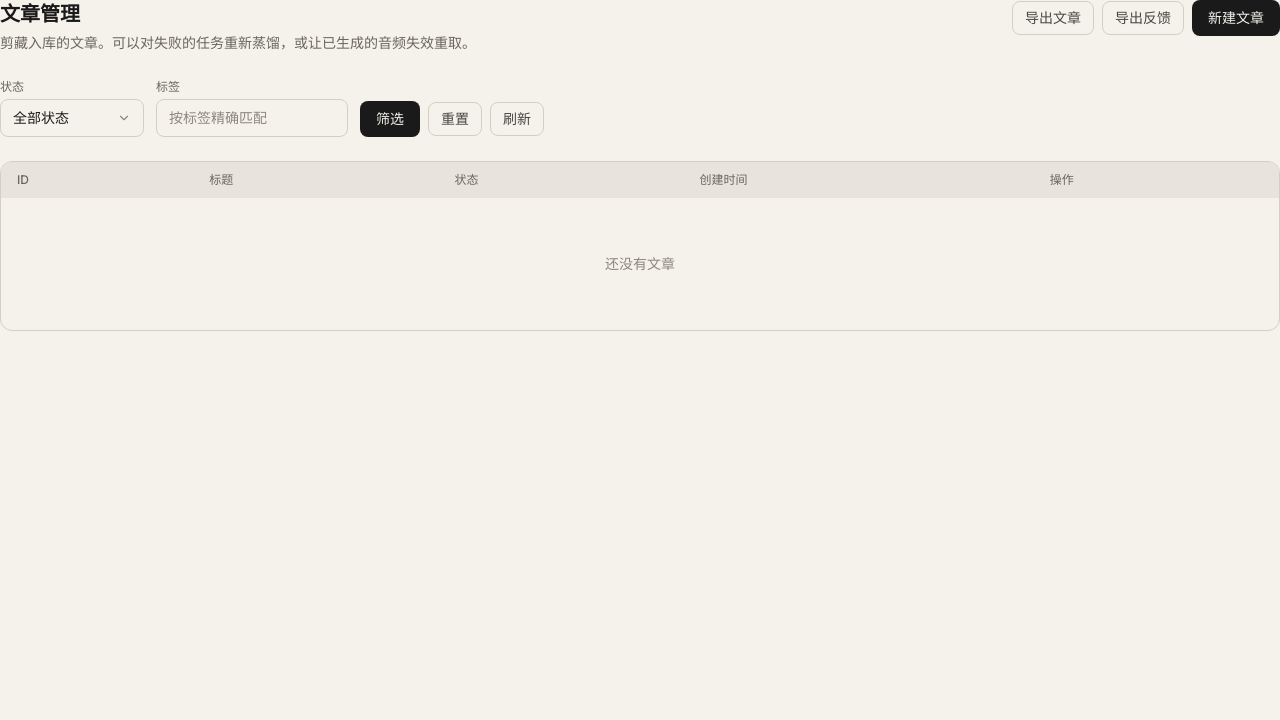
Test: 新建文章抽屉 · 三种录入方式 › 切到「粘贴文本」模式后，报的错是「正文不能为空」
The width and height of the screenshot is (1280, 720).
Click the button "新建文章" at [1236, 18], box [1192,0,1279,36]
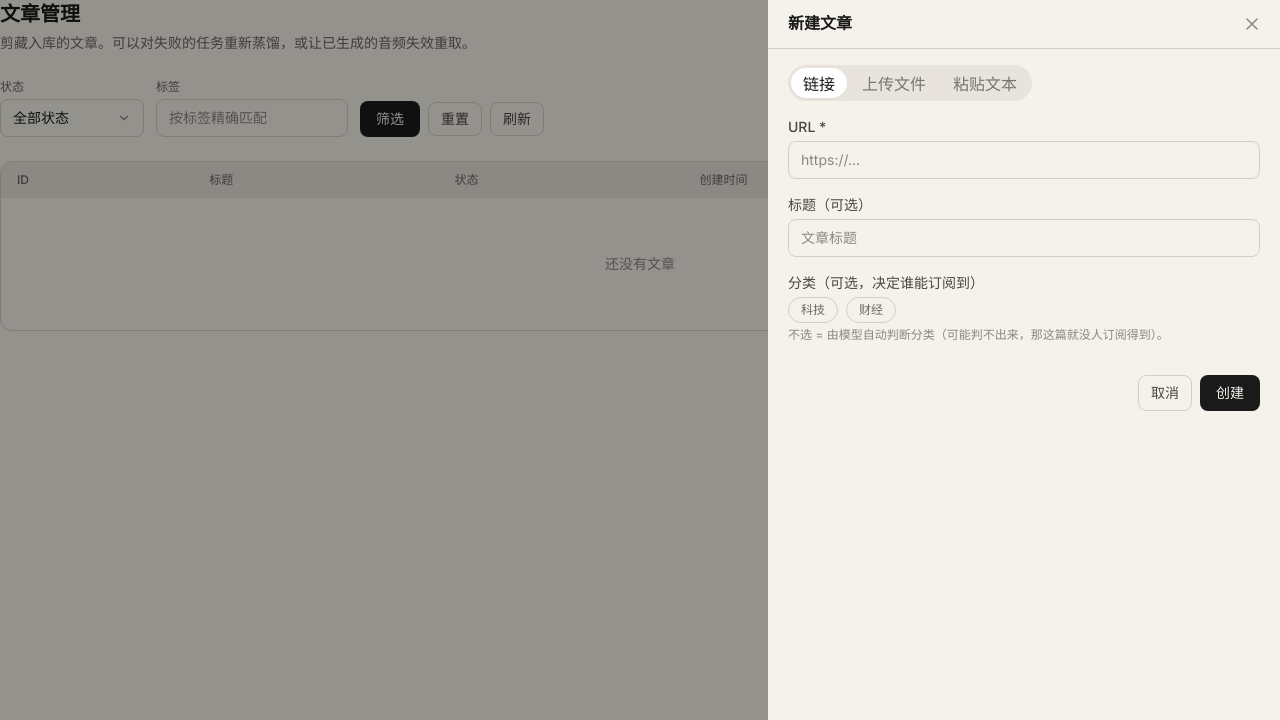
Expected: the dialog is shown, [768,0,1279,719]
Click the tab "粘贴文本" at [985, 83], box [941,68,1029,98]
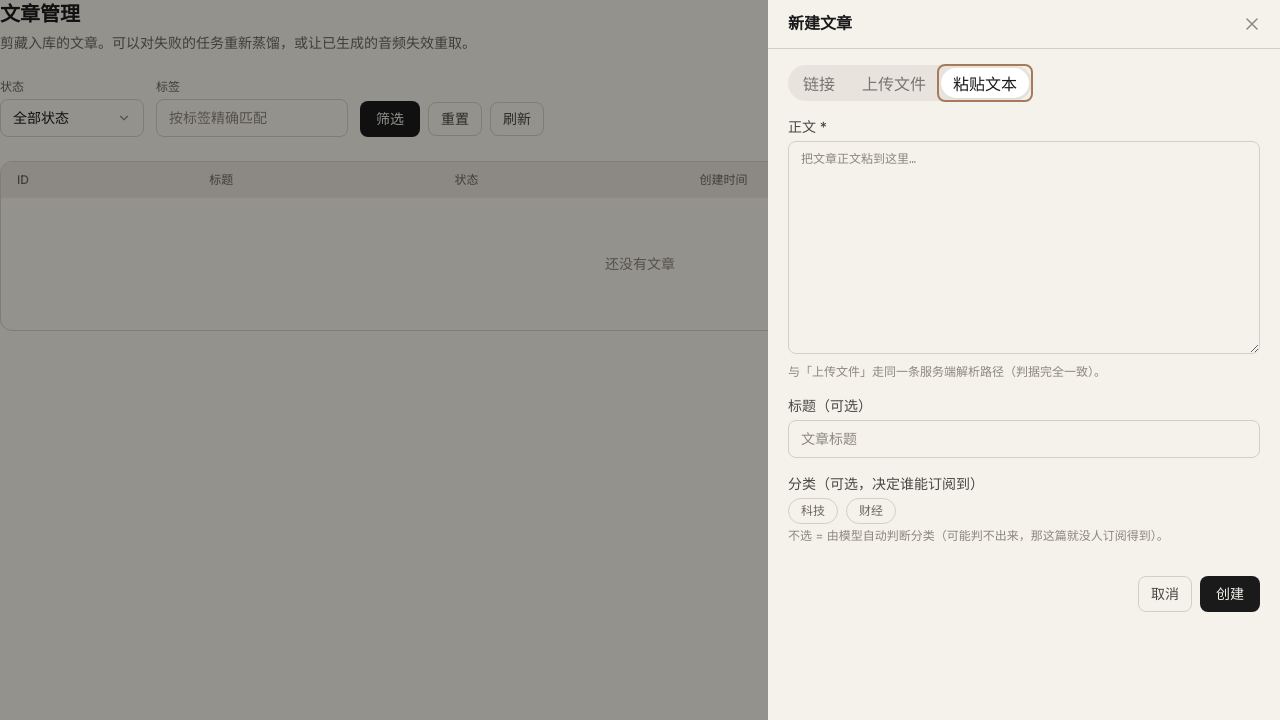
Click the button named "确认创建文章" at [1230, 594], box [1200,576,1260,612]
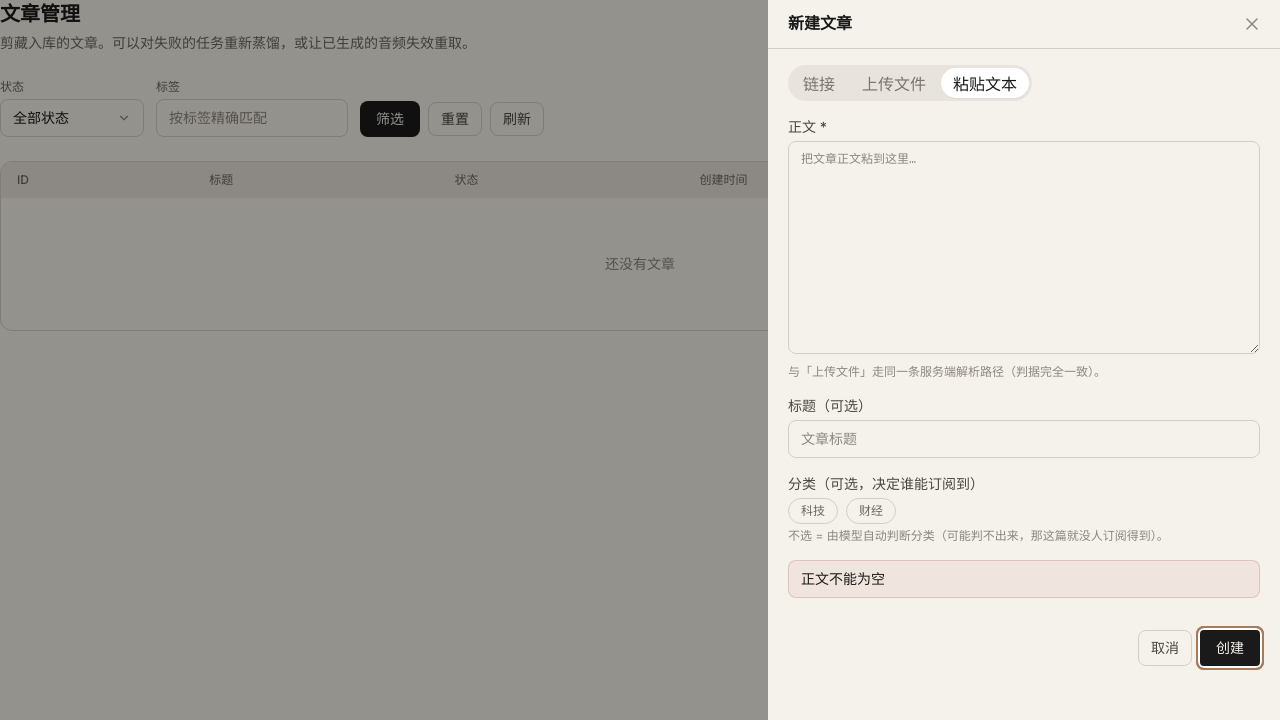
Expected: the text "正文不能为空" is shown, [788,560,1260,598]
